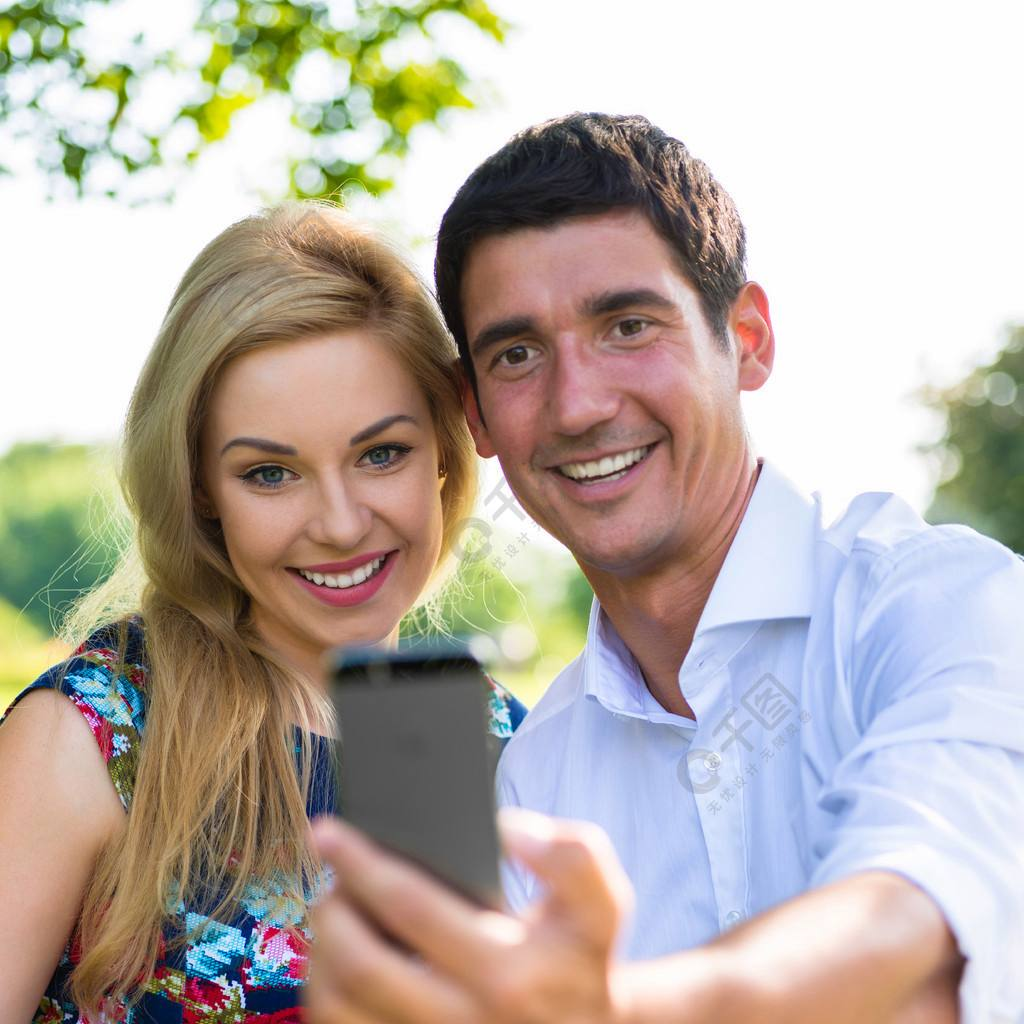taking photos: (293, 634, 637, 1024)
